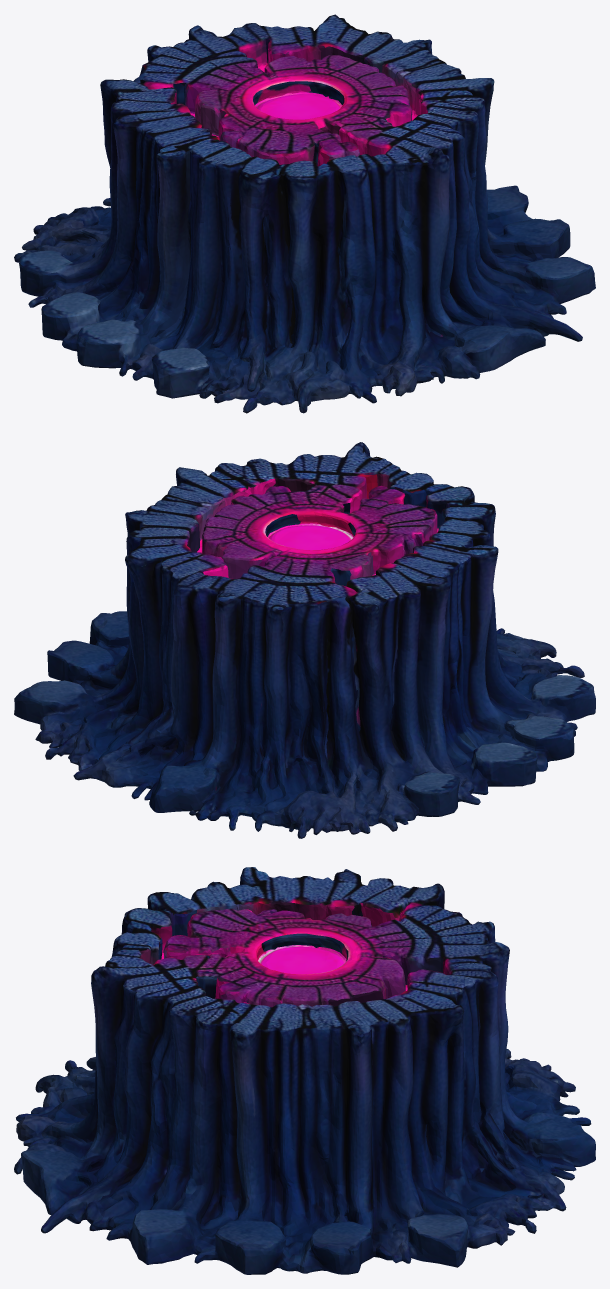
Rendered from root-northwest-generated-2026-04-19T06-31-06-714Z.glb.
The picture shows the model from 3 angles, top to bottom: view 1: azimuth 30°, elevation 25°; view 2: azimuth 150°, elevation 25°; view 3: azimuth 270°, elevation 25°; orthographic projection. The views are drawn at different scales.
Parts seen in each view (by area): view 1: temp_mesh.ply; view 2: temp_mesh.ply; view 3: temp_mesh.ply.
Part boxes in pixels (x1,y1,x2,y2): temp_mesh.ply: (14, 14, 595, 413); temp_mesh.ply: (14, 442, 595, 838); temp_mesh.ply: (14, 867, 595, 1274).
Bounding box in the file's own units: 1.97 × 0.7785 × 1.95.
Materials: 1 (1 with a texture image).
